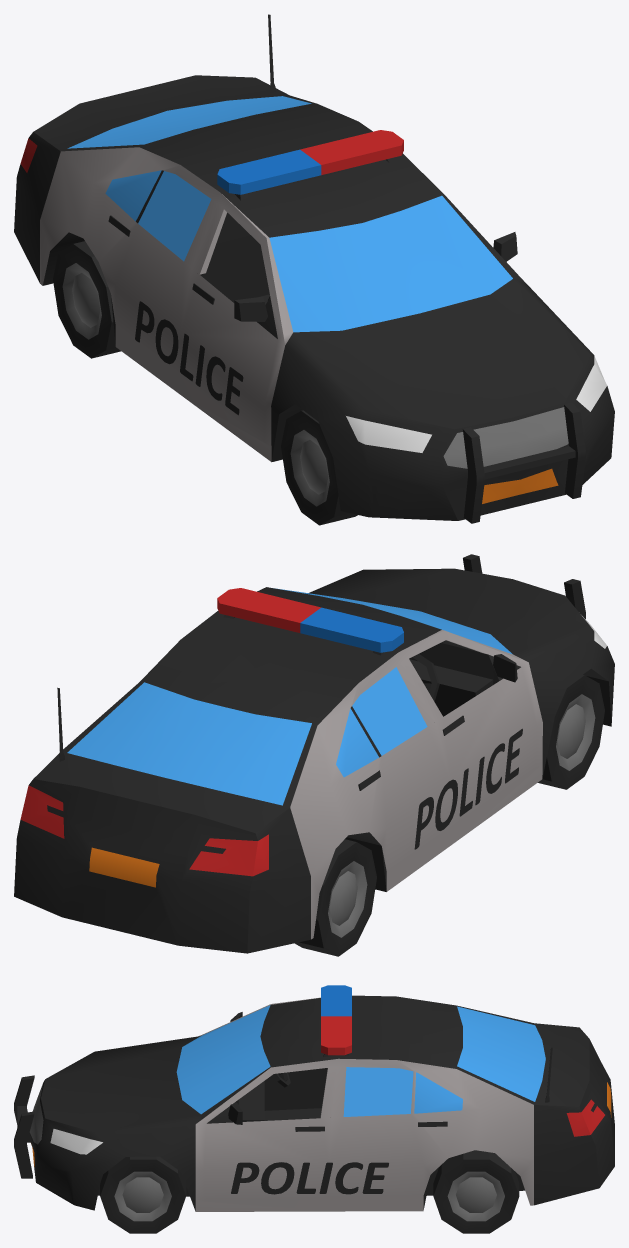
The model's file is Police_car.fbx.
3 renders of one model, top to bottom at view 1: azimuth 30°, elevation 25°; view 2: azimuth 150°, elevation 25°; view 3: azimuth 270°, elevation 25°, orthographic. The views are drawn at different scales.
Visible parts, largest first — view 1: Police car; view 2: Police car; view 3: Police car.
Part boxes in pixels (bbox=[...]): Police car: bbox=[14, 14, 614, 525]; Police car: bbox=[14, 554, 614, 956]; Police car: bbox=[14, 985, 614, 1233].
Bounding box in the file's own units: 205 × 168 × 520.
